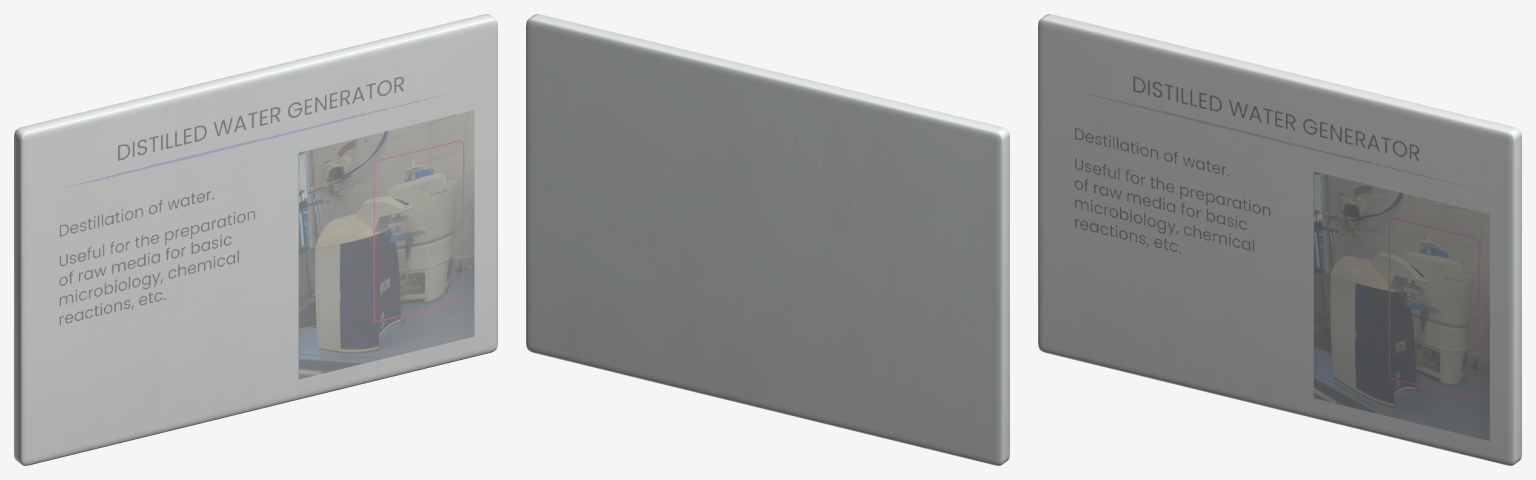
The model's file is Cartel_Destilador02.glb.
The picture shows the model from 3 angles, left to right: view 1: azimuth 30°, elevation 25°; view 2: azimuth 150°, elevation 25°; view 3: azimuth 330°, elevation 25°; orthographic projection.
Parts seen in each view (by area): view 1: Box011; view 2: Box011; view 3: Box011.
Part boxes in pixels (<box>): Box011: <box>14,14,497,465</box>; Box011: <box>526,14,1009,465</box>; Box011: <box>1038,14,1521,465</box>.
Bounding box in the file's own units: 1.1 × 0.7335 × 0.0348.
Materials: 1 (1 with a texture image).
